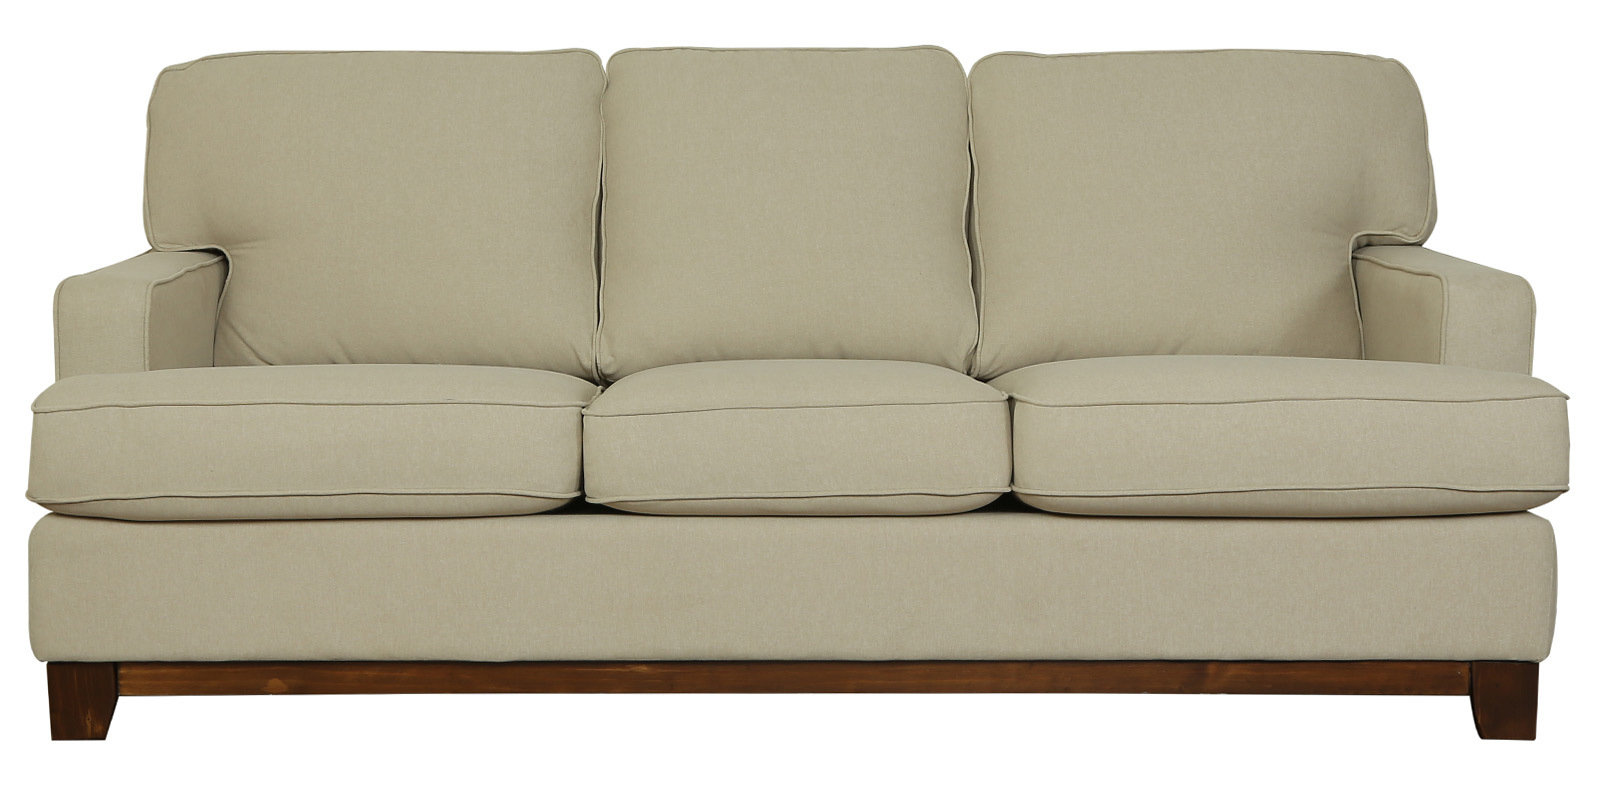Parana Three Seater Sofa in Beige Color by CasaCraft: (26, 46, 1574, 742)
